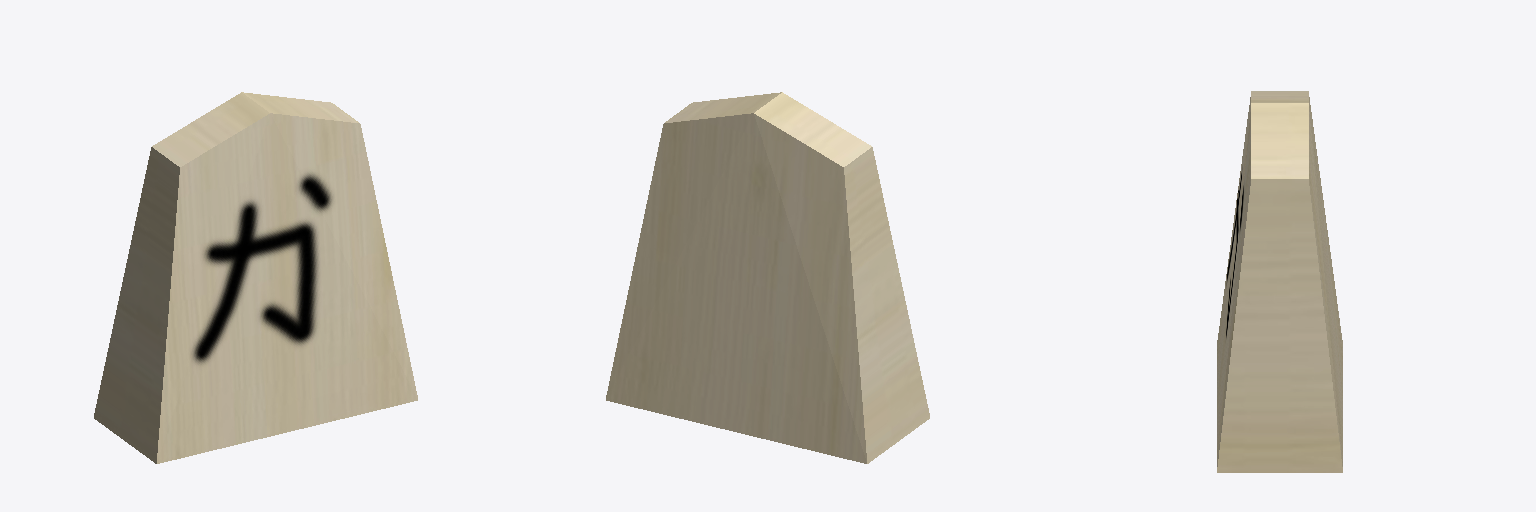
3 views of the same model, side by side, from view 1: azimuth 30°, elevation 25°; view 2: azimuth 150°, elevation 25°; view 3: azimuth 270°, elevation 25° (orthographic).
Parts seen in each view (by area): view 1: Fciha; view 2: Fciha; view 3: Fciha.
Part boxes in pixels (x1,y1,x2,y2): Fciha: (94,92,417,463); Fciha: (606,92,929,463); Fciha: (1217,91,1342,472).
Bounding box in the file's own units: 5.47 × 6.12 × 2.29.
1 materials, 1 textured.